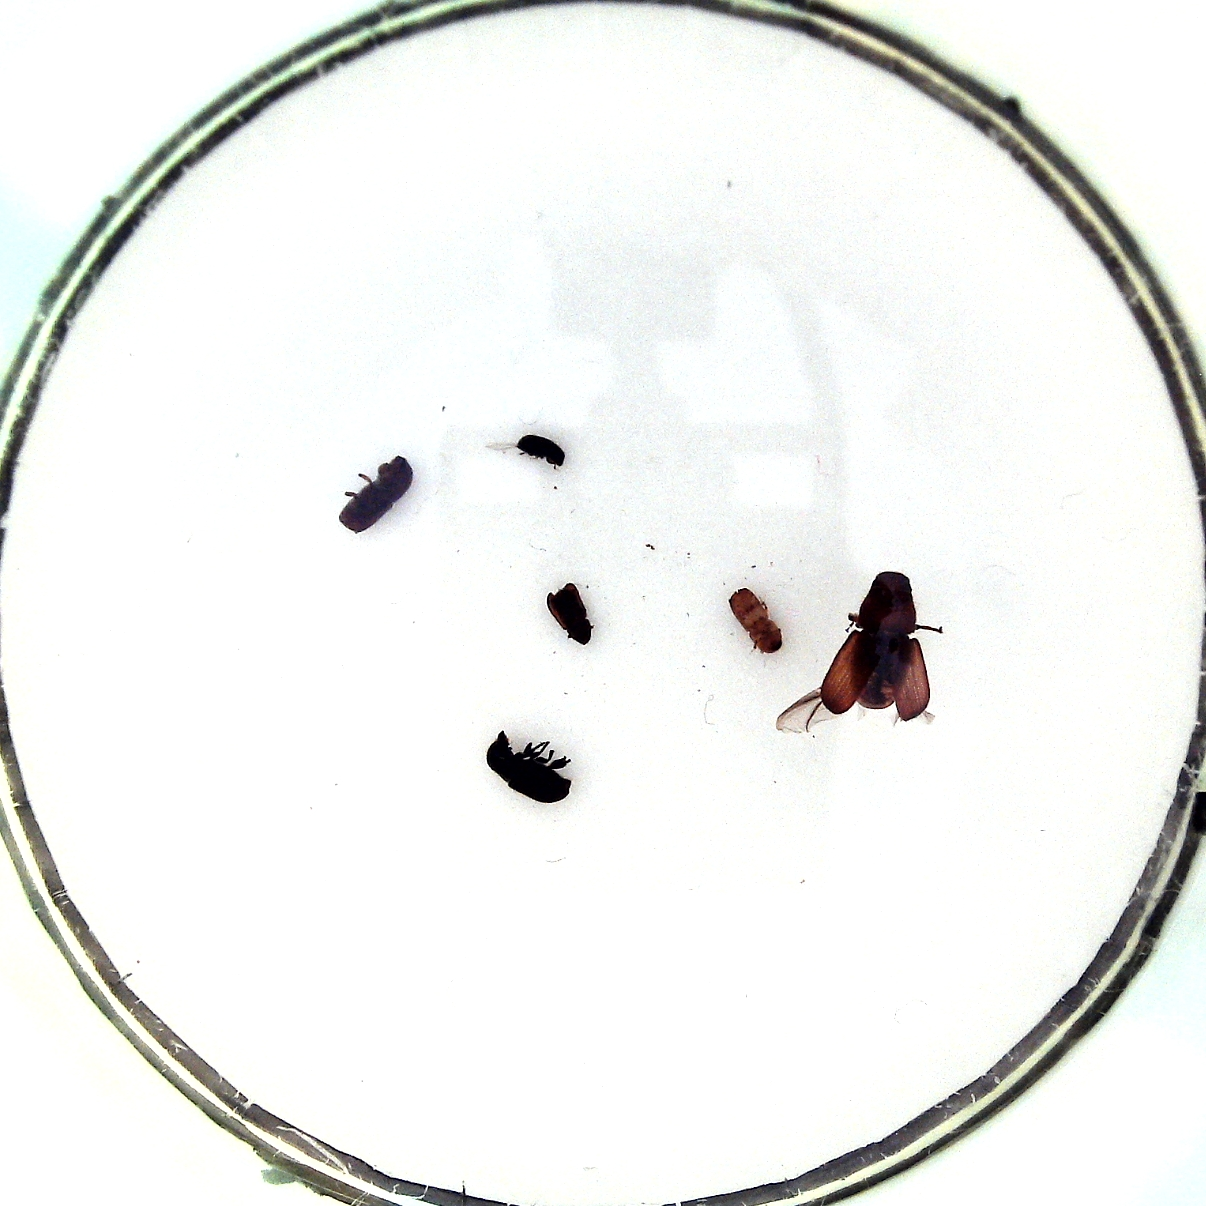Leconte: (821, 571, 931, 720)
acuminatus: (516, 434, 565, 467)
armandi: (486, 731, 571, 802)
coleoptera: (729, 588, 783, 653), (546, 582, 592, 645)
linnaeus: (339, 455, 412, 535)
